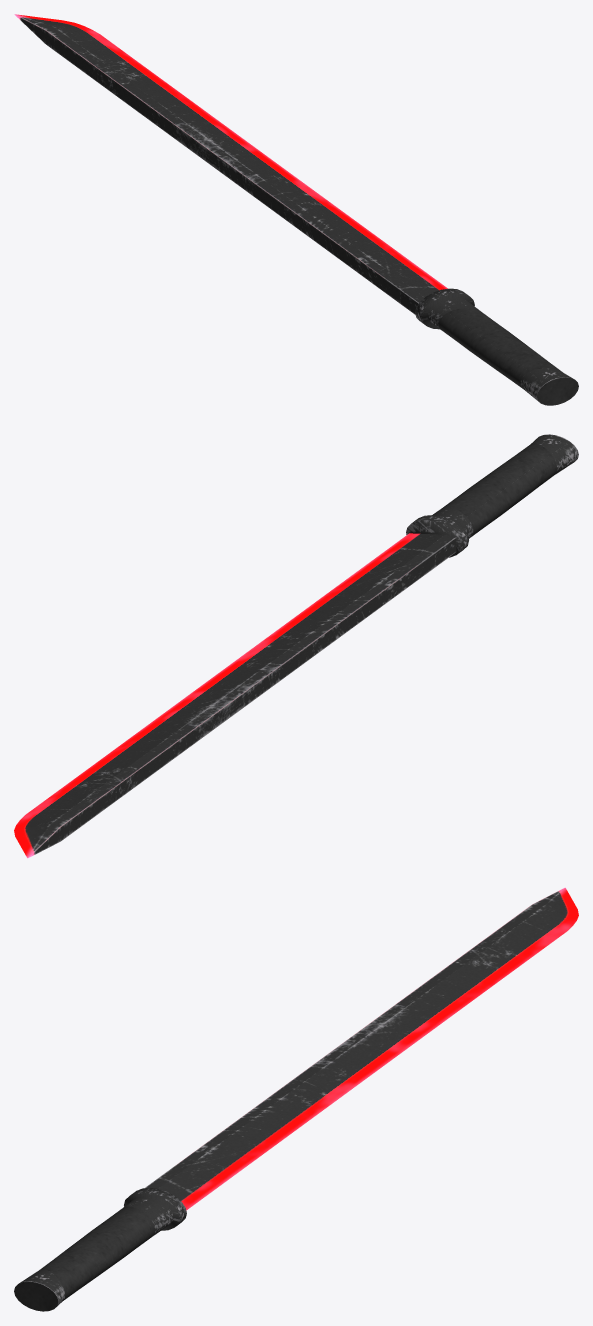
The model's file is CyberKatana.fbx.
3 views of the same model, one above another, from view 1: azimuth 30°, elevation 25°; view 2: azimuth 150°, elevation 25°; view 3: azimuth 330°, elevation 25° (orthographic). The views are drawn at different scales.
Visible parts, largest first — view 1: defaultMaterial; view 2: defaultMaterial; view 3: defaultMaterial.
Boxes of the visible parts, x1,y1,x2,y2 form: defaultMaterial: (14, 14, 578, 405); defaultMaterial: (14, 434, 578, 858); defaultMaterial: (14, 887, 578, 1311).
Size of the model in its own units: 100 by 60.17 by 1710.
1 material, 1 textured.
